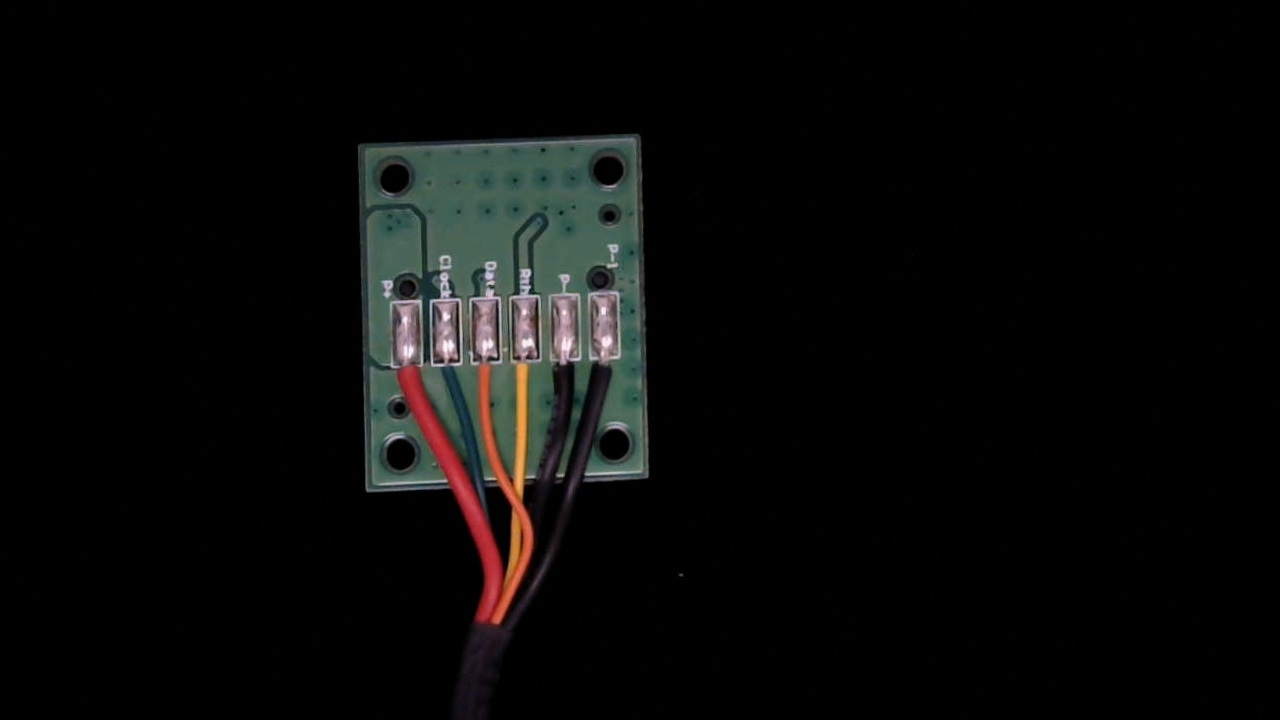Black: (550, 341, 579, 409)
Black1: (589, 340, 621, 403)
Green: (429, 344, 460, 412)
Orange: (469, 343, 498, 410)
Red: (391, 346, 426, 419)
Yellow: (509, 342, 541, 408)
